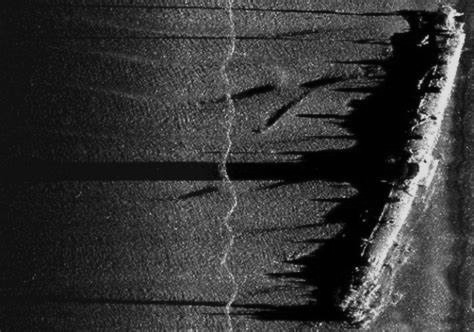ship: (347, 11, 467, 304)
